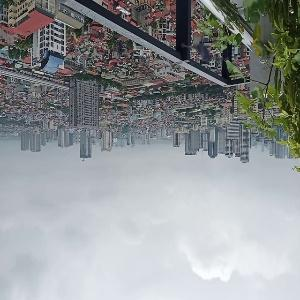drone: (168, 25, 232, 89)
